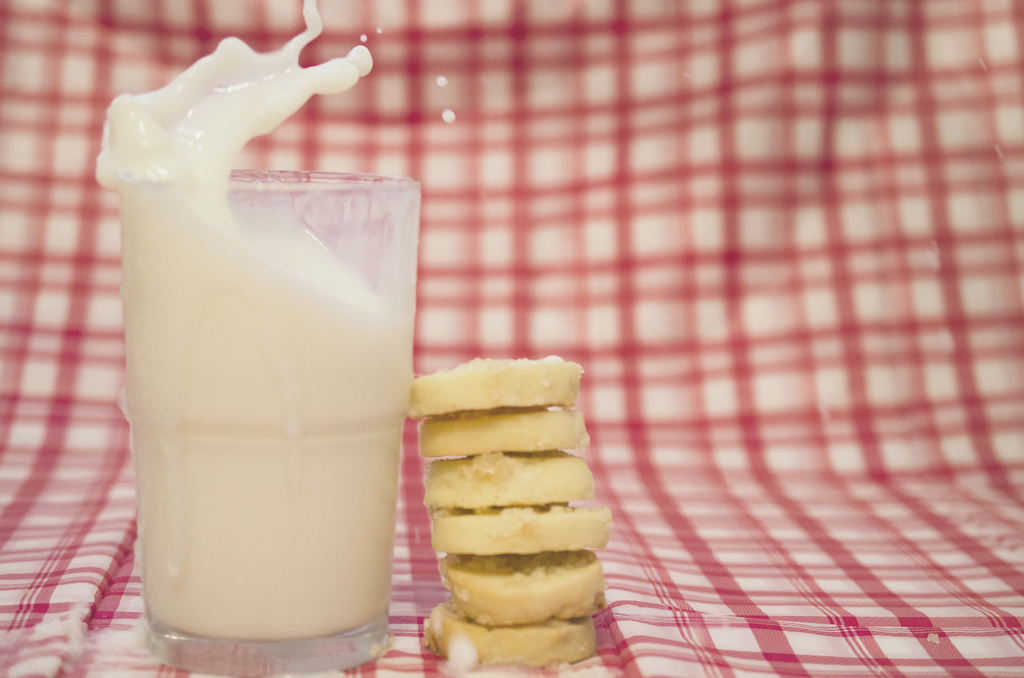glass of milk: (123, 170, 419, 668)
